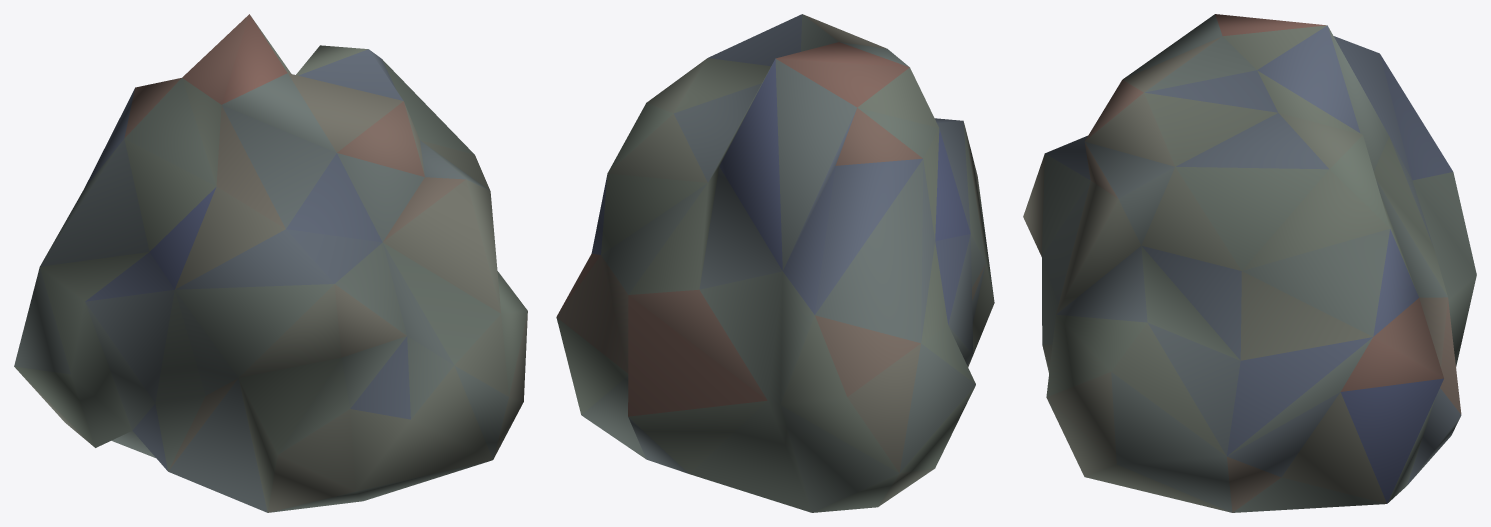
File: rock_cliff_COL.fbx
The picture shows the model from 3 angles, left to right: view 1: azimuth 30°, elevation 25°; view 2: azimuth 150°, elevation 25°; view 3: azimuth 270°, elevation 25°; orthographic projection. The views are drawn at different scales.
Visible parts, largest first — view 1: rock_cliff_COL; view 2: rock_cliff_COL; view 3: rock_cliff_COL.
Boxes of the visible parts, x1=… form: rock_cliff_COL: x1=14, y1=14, x2=527, y2=512; rock_cliff_COL: x1=556, y1=14, x2=994, y2=512; rock_cliff_COL: x1=1023, y1=14, x2=1476, y2=512.
Size of the model in its own units: 833 by 887 by 844.
